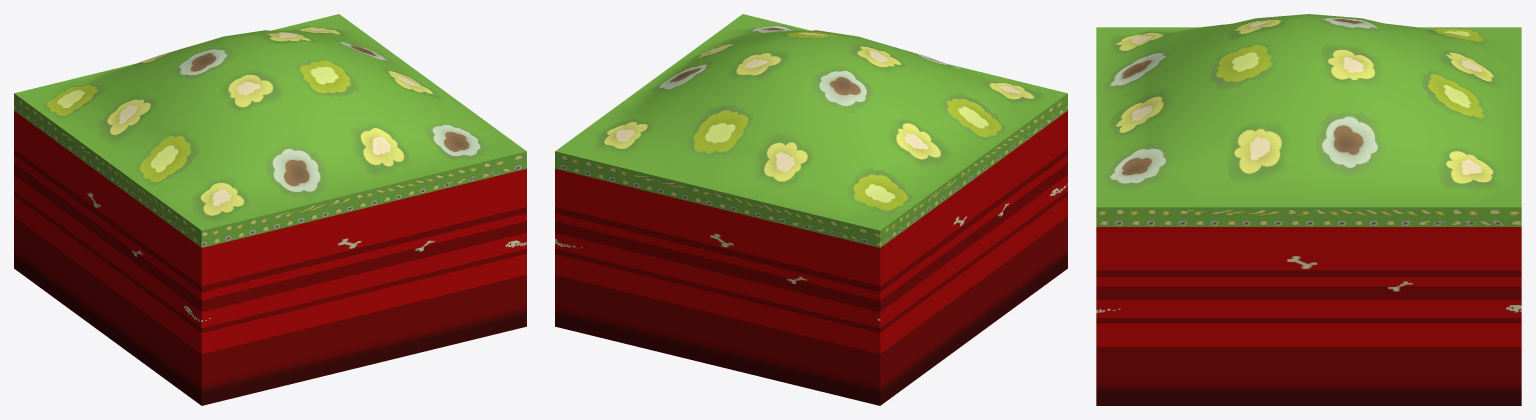
Rendered from block_rect_curved_2x2.obj.
The picture shows the model from 3 angles, left to right: view 1: azimuth 30°, elevation 25°; view 2: azimuth 150°, elevation 25°; view 3: azimuth 270°, elevation 25°; orthographic projection. The views are drawn at different scales.
Visible parts, largest first — view 1: polySurface5 polySurface8, polySurface5 polySurface7, polySurface6 polySurface5; view 2: polySurface5 polySurface8, polySurface5 polySurface7, polySurface6 polySurface5; view 3: polySurface5 polySurface7, polySurface5 polySurface8, polySurface6 polySurface5.
Part boxes in pixels (<box>): polySurface5 polySurface8: <box>14,111,526,405</box>; polySurface5 polySurface7: <box>14,14,526,230</box>; polySurface6 polySurface5: <box>14,93,526,247</box>; polySurface5 polySurface8: <box>555,111,1067,405</box>; polySurface5 polySurface7: <box>555,14,1067,230</box>; polySurface6 polySurface5: <box>555,93,1067,247</box>; polySurface5 polySurface7: <box>1096,14,1521,207</box>; polySurface5 polySurface8: <box>1096,227,1521,405</box>; polySurface6 polySurface5: <box>1096,207,1521,226</box>.
Bounding box in the file's own units: 400 × 293 × 400.
